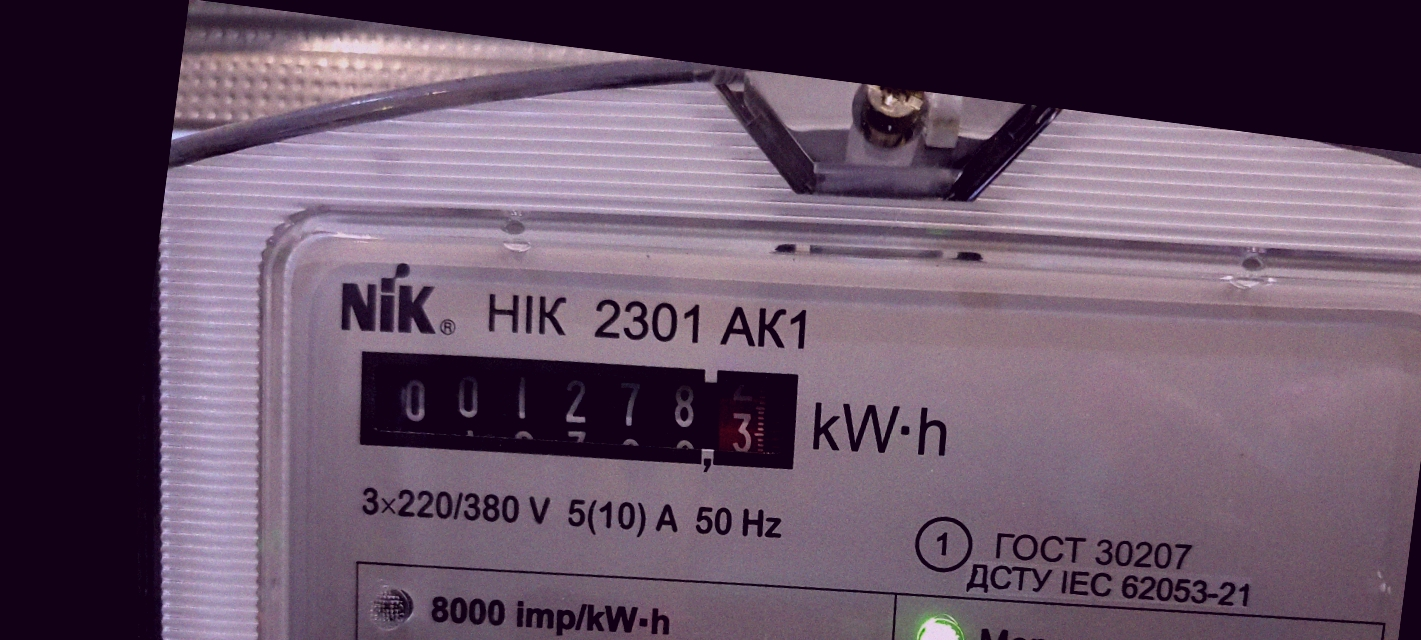0: (399, 373, 433, 424), (452, 371, 483, 420)
1: (511, 372, 534, 422)
2: (559, 375, 592, 425), (728, 381, 757, 405)
3: (726, 406, 757, 453)
7: (614, 377, 642, 428)
8: (668, 380, 699, 430)
screen: (331, 307, 822, 508)
